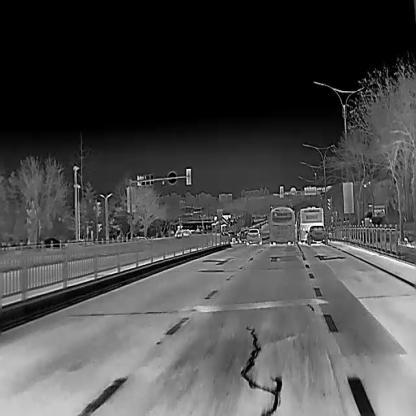car: (296, 207, 323, 244), (269, 211, 295, 246), (306, 225, 328, 245), (245, 229, 261, 245)
